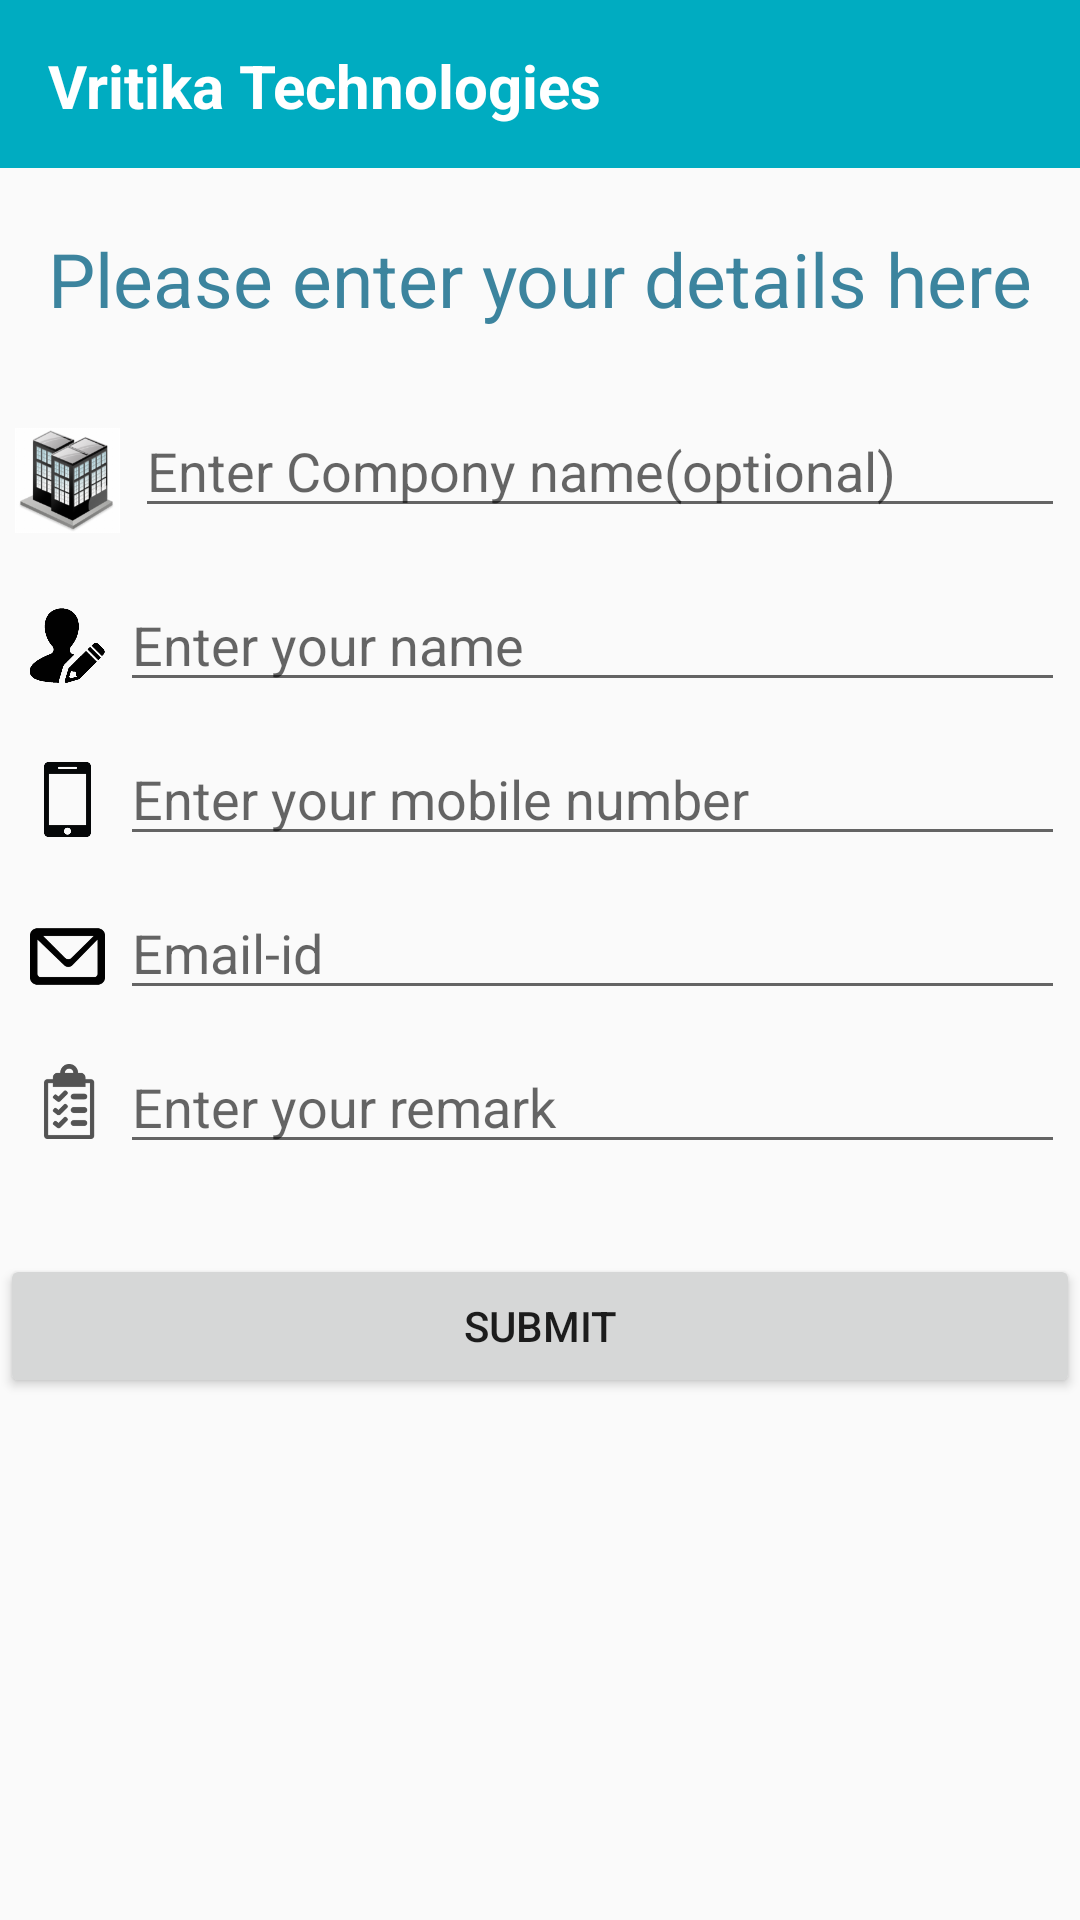

Screen size 1080*1920. Icon name, then its box in pixels as (x1, y1, x2, y2):
company: (20, 431, 113, 530)
remarks: (44, 1064, 95, 1139)
